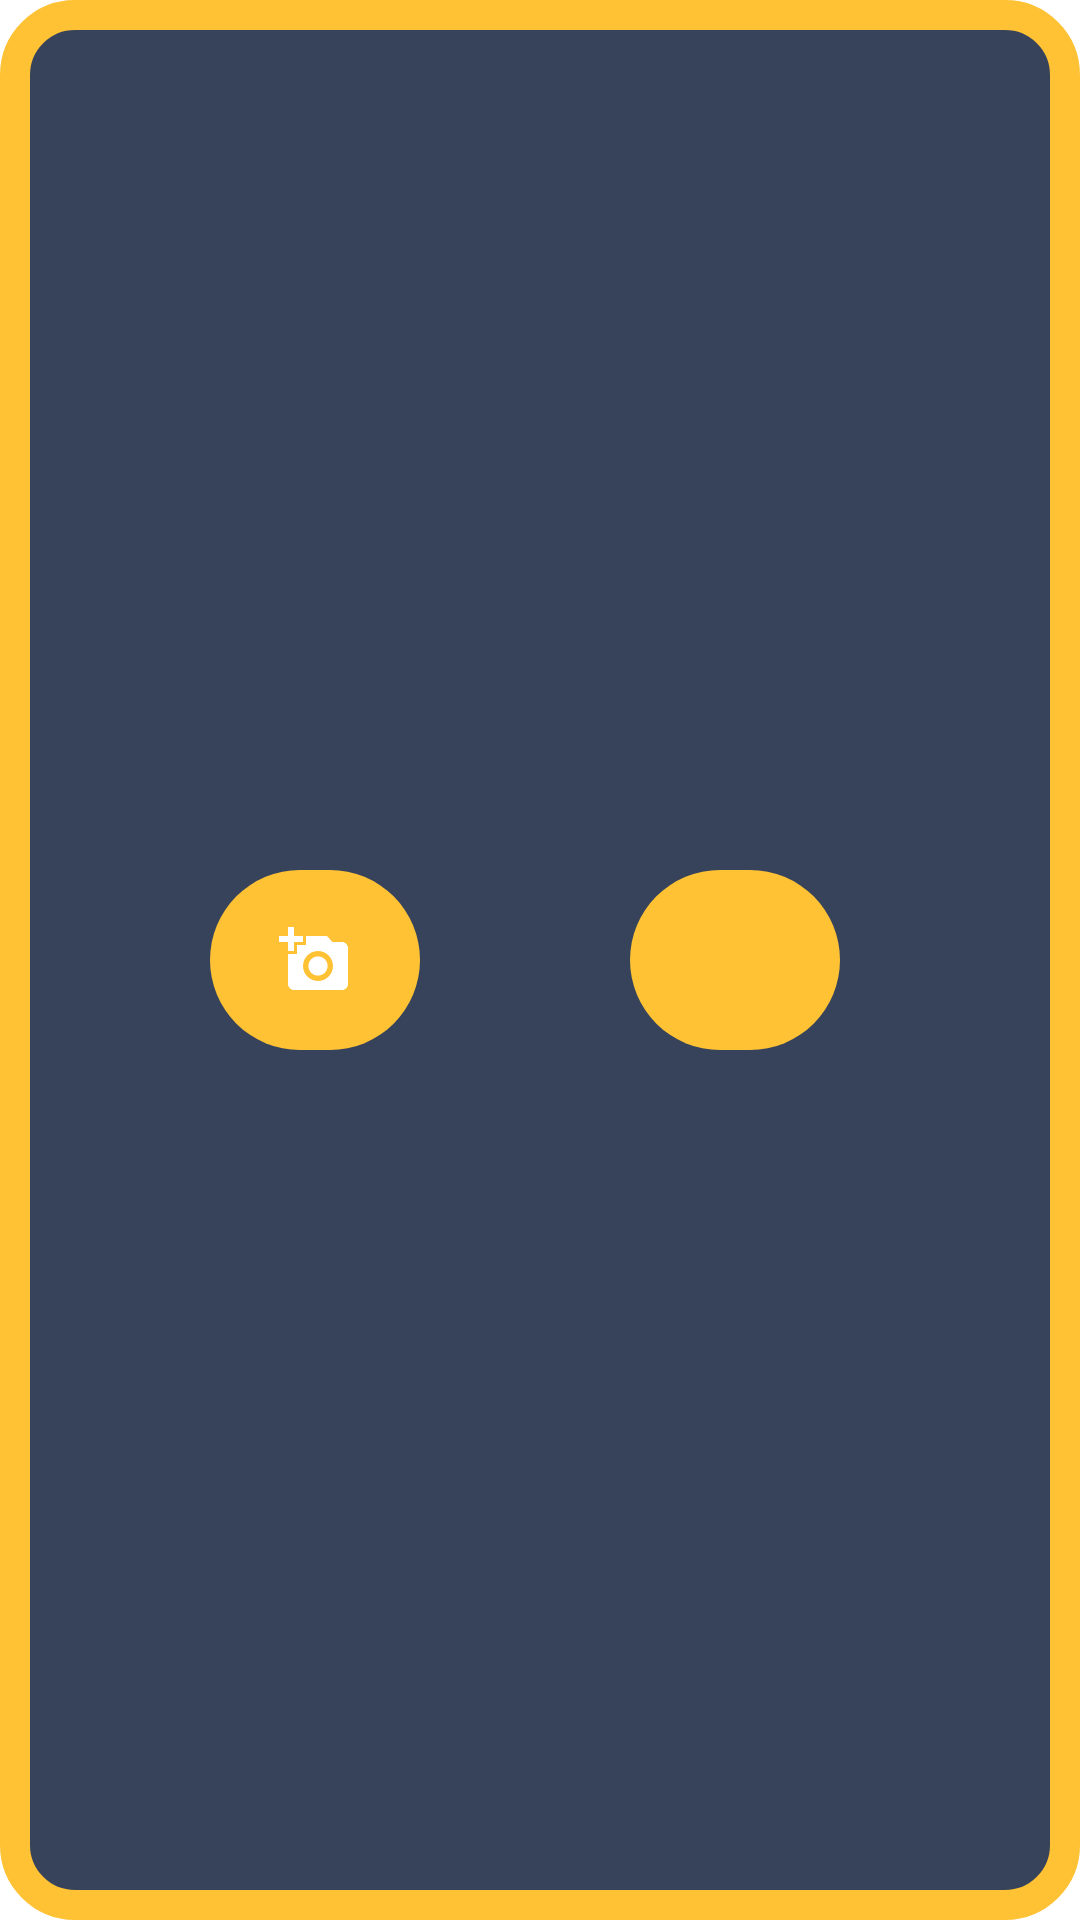

Named icons in this screenshot (1080 x 1920) and their bounding boxes, box=[x1, y1, x2, y2]:
add photo: box=[210, 870, 420, 1050]
